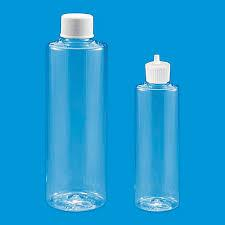Container for household chemicals: (44, 10, 110, 214), (131, 41, 184, 218)
